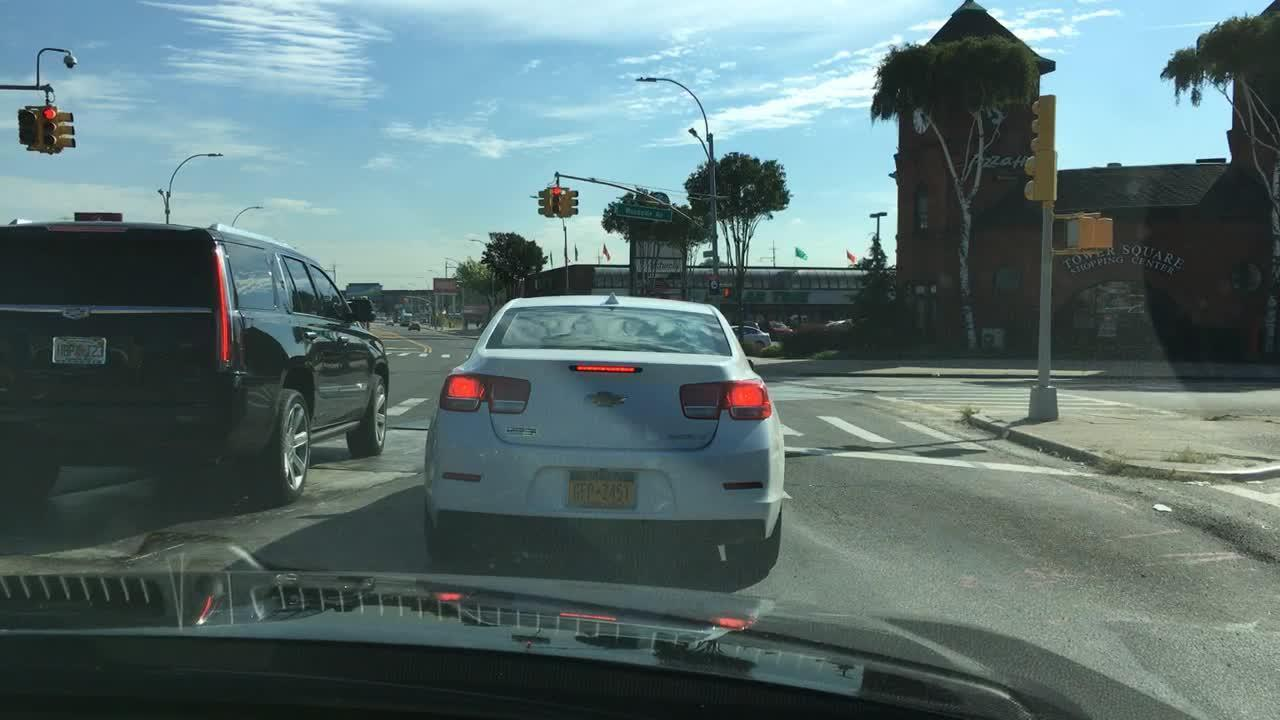cadillac: (57, 300, 99, 328)
